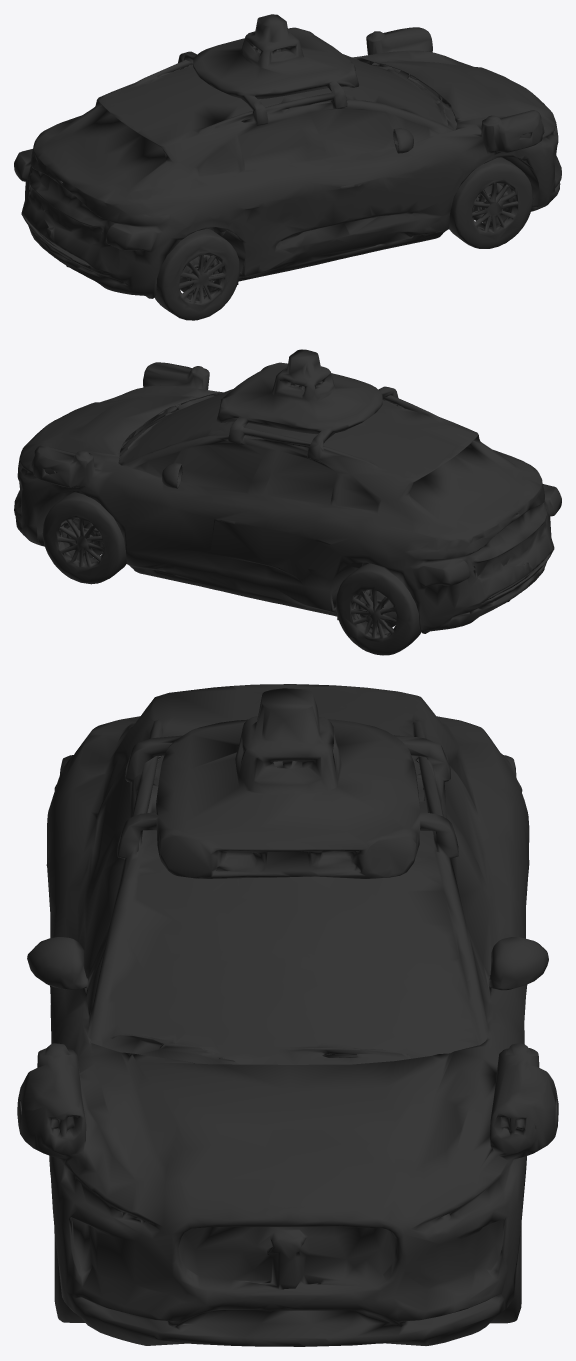
The model's file is highres-draco.glb.
The picture shows the model from 3 angles, top to bottom: view 1: azimuth 30°, elevation 25°; view 2: azimuth 150°, elevation 25°; view 3: azimuth 270°, elevation 25°; orthographic projection. The views are drawn at different scales.
Parts seen in each view (by area): view 1: world; view 2: world; view 3: world.
Part boxes in pixels (x1,y1,x2,y2): world: (14,14,561,320); world: (14,349,561,655); world: (17,684,558,1346).
Bounding box in the file's own units: 1 × 0.4479 × 0.4838.
1 material, 1 textured.
